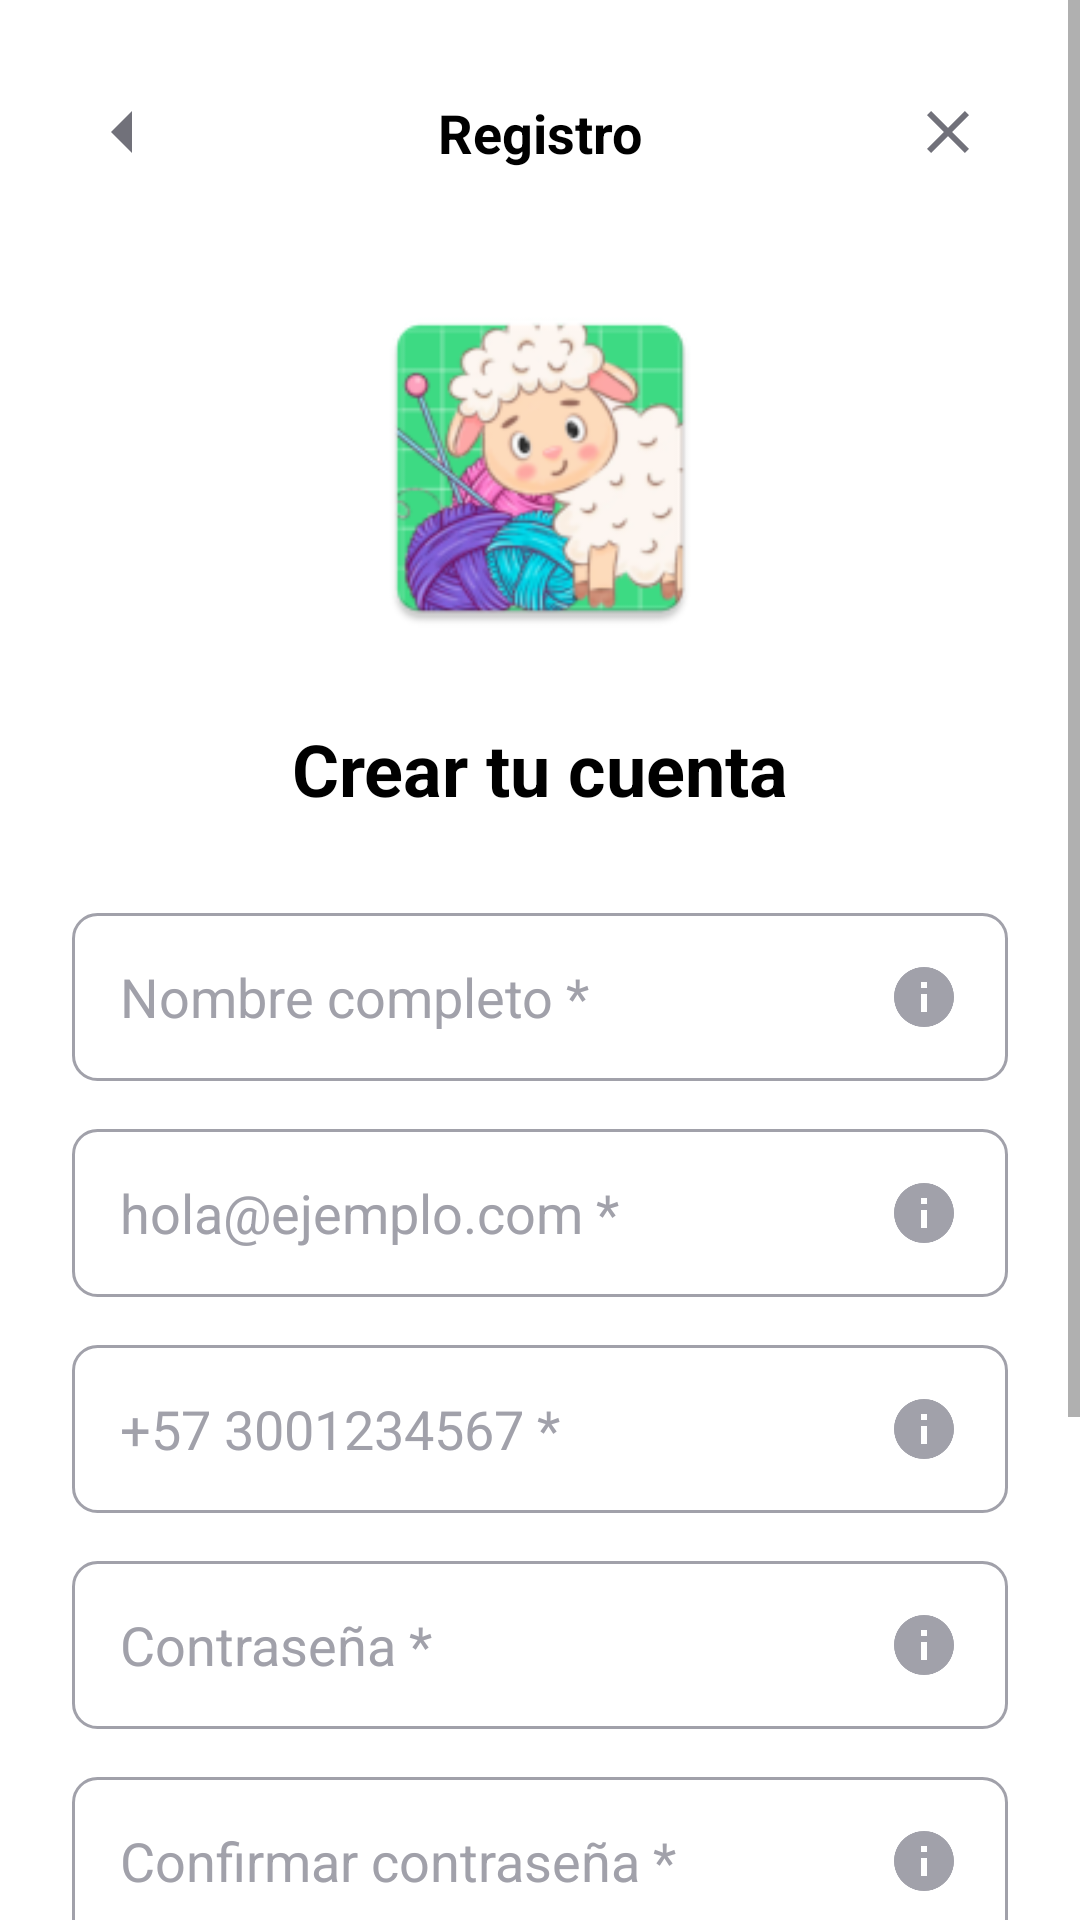

Icons on this 1080x1920 Android screen, each with its box as (x1,y1,x2,y2):
Cerrar: (927,111,969,153)
Volver: (111,111,132,153)
